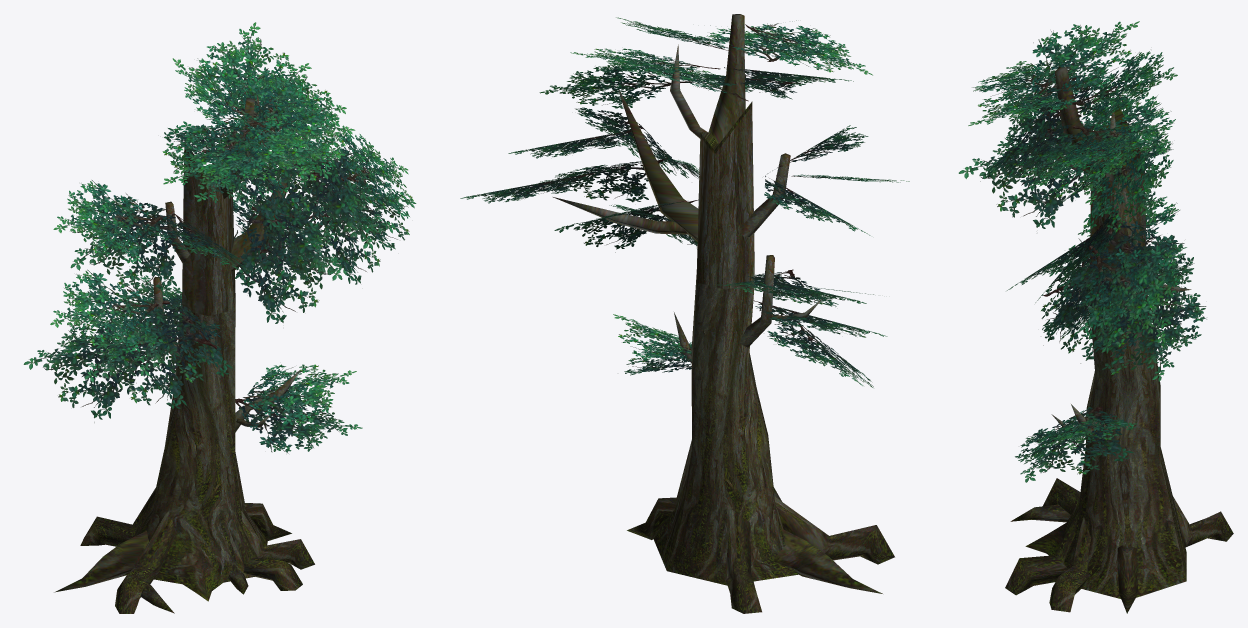
The model's file is yw_museyulin_dashu02.FBX.
The picture shows the model from 3 angles, left to right: view 1: azimuth 30°, elevation 25°; view 2: azimuth 150°, elevation 25°; view 3: azimuth 270°, elevation 25°; orthographic projection. The views are drawn at different scales.
Parts seen in each view (by area): view 1: yw_museyulin_dashu02; view 2: yw_museyulin_dashu02; view 3: yw_museyulin_dashu02.
Boxes of the visible parts, x1,y1,x2,y2 form: yw_museyulin_dashu02: (23,22,416,613); yw_museyulin_dashu02: (460,14,909,613); yw_museyulin_dashu02: (958,21,1233,613).
Size of the model in its own units: 1229 by 1469 by 699.
